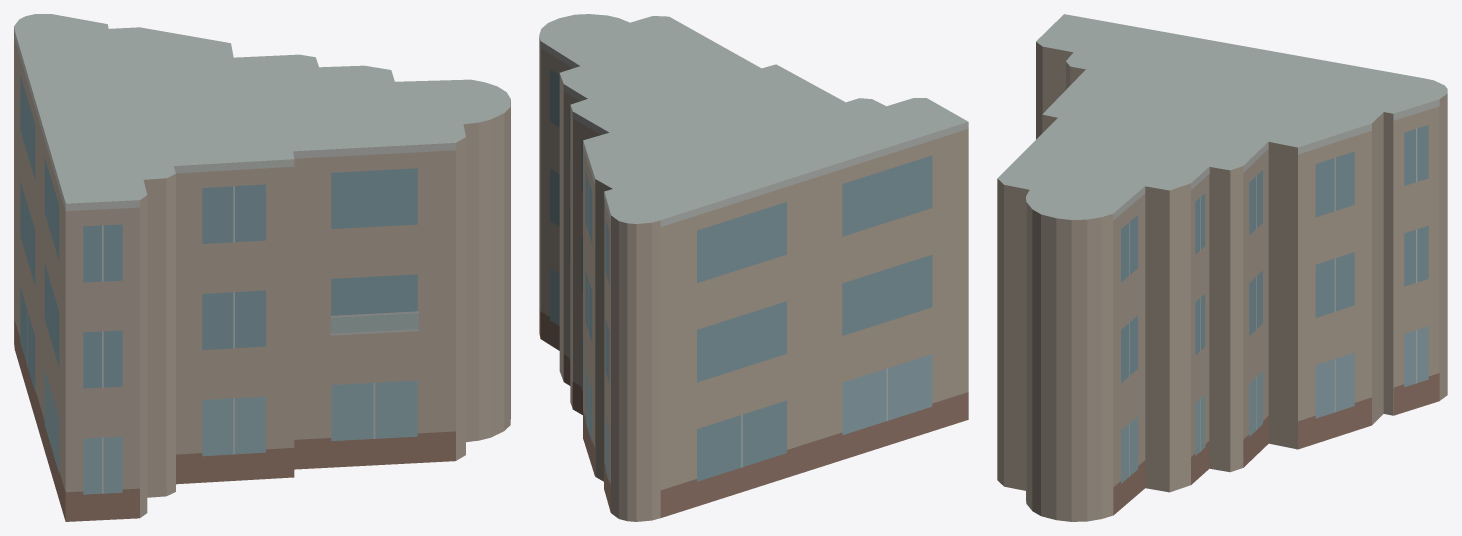
The model's file is survey-upis-32781265.glb.
3 renders of one model, left to right at view 1: azimuth 30°, elevation 25°; view 2: azimuth 150°, elevation 25°; view 3: azimuth 270°, elevation 25°, orthographic. The views are drawn at different scales.
Parts seen in each view (by area): view 1: survey-upis-32781265.tmp; view 2: survey-upis-32781265.tmp; view 3: survey-upis-32781265.tmp.
Boxes of the visible parts, left/top/right/bottom form: survey-upis-32781265.tmp: left=14, top=14, right=510, bottom=521; survey-upis-32781265.tmp: left=539, top=14, right=968, bottom=521; survey-upis-32781265.tmp: left=997, top=14, right=1447, bottom=521.
Bounding box in the file's own units: 15.23 × 10.4 × 14.07.
